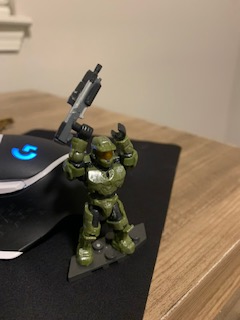chief: (61, 123, 139, 267)
rifle: (52, 63, 103, 146)
spartan: (59, 121, 137, 265)
up: (61, 122, 140, 199)
